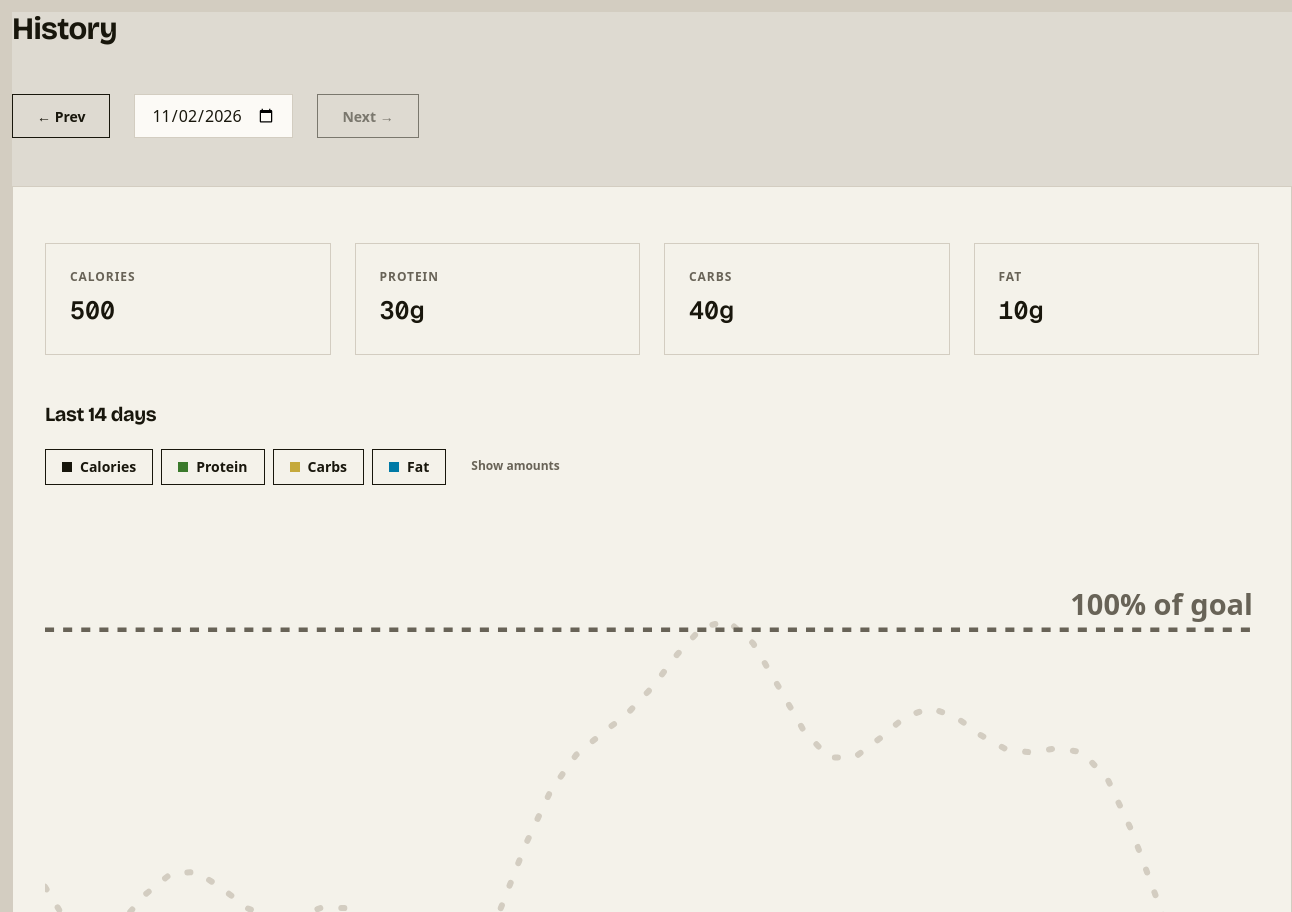
Scenario: History › going to a past day shows the past-flavored empty message with no log-food link
The width and height of the screenshot is (1292, 912).
Click the button with aria-label "Previous day".
click(61, 116)  # box [12,94,110,138]
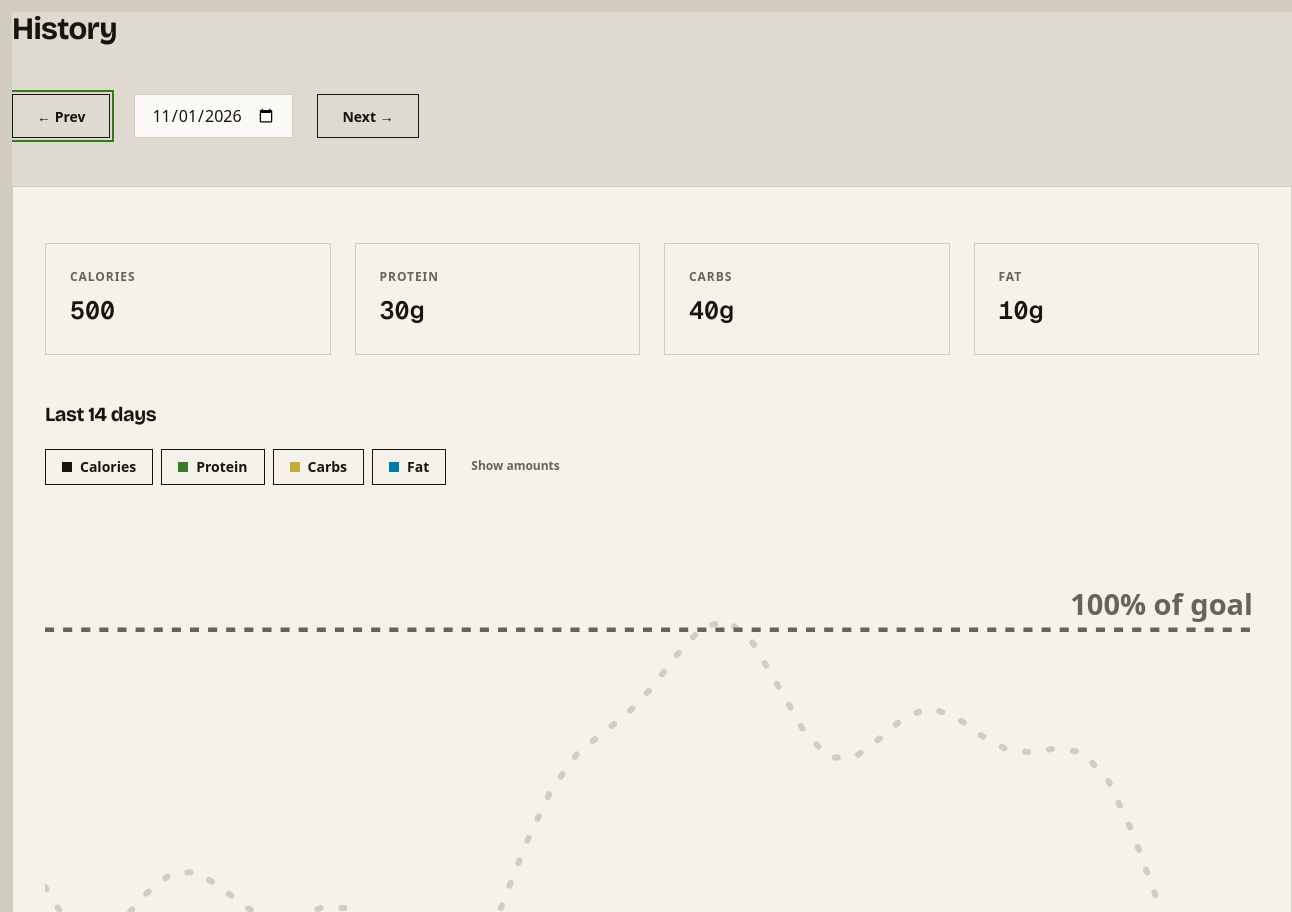
Check: the button with aria-label "Next day" is enabled, box [318,94,419,138]
